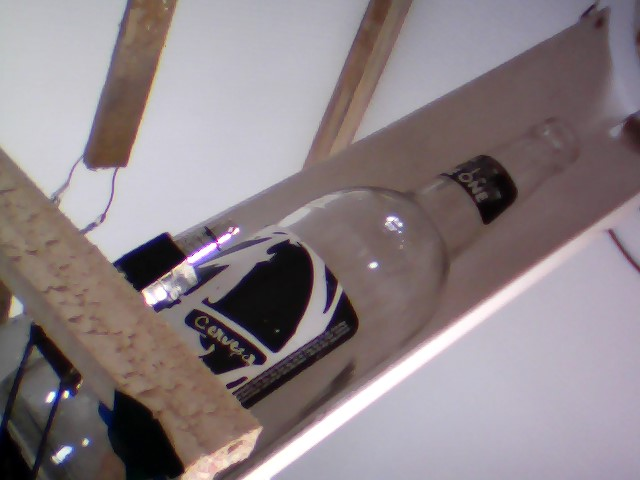vidrio: (188, 110, 589, 442)
